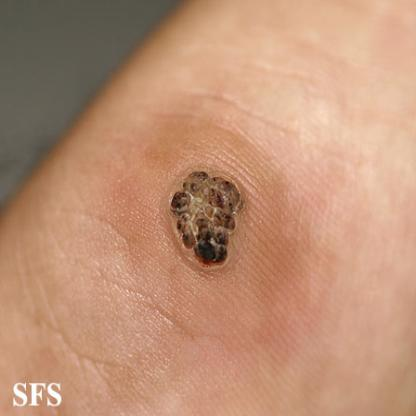Warts: (158, 151, 250, 284)
